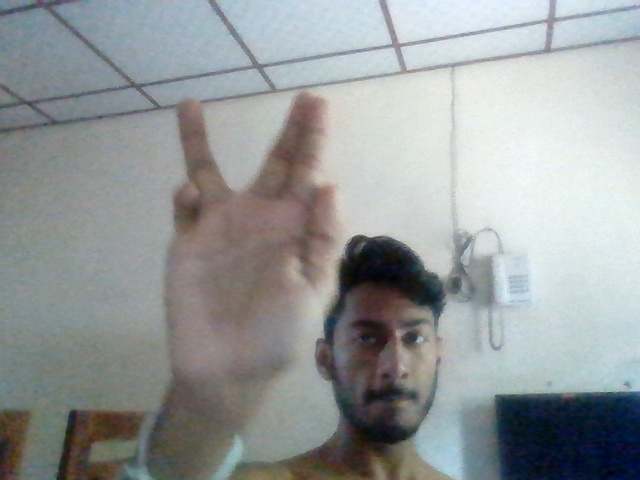LiveLong: (160, 95, 345, 388)
